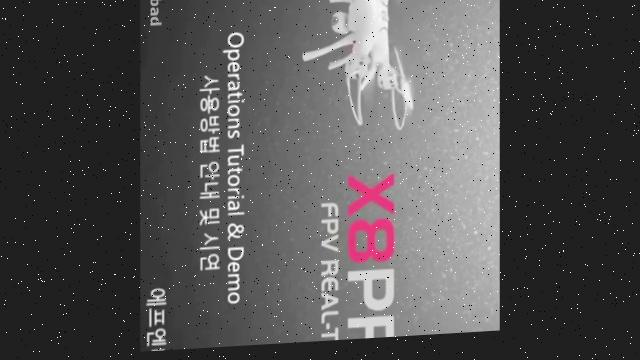drone: (297, 0, 420, 141)
